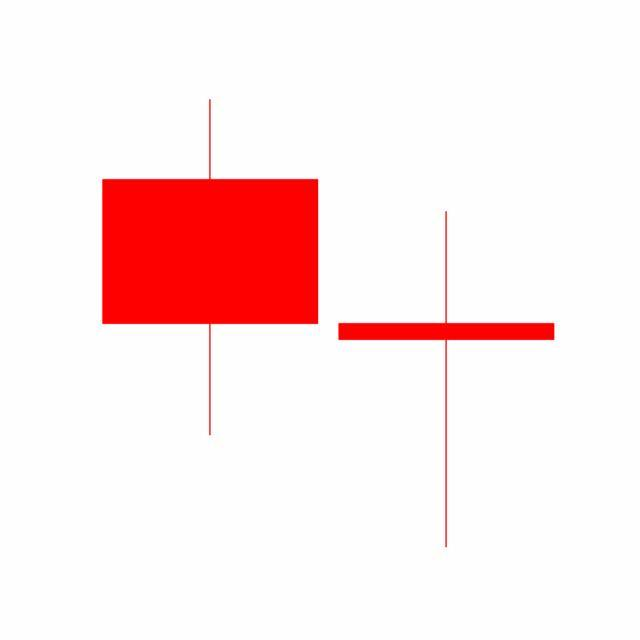Spinning Top: (328, 208, 566, 551)
